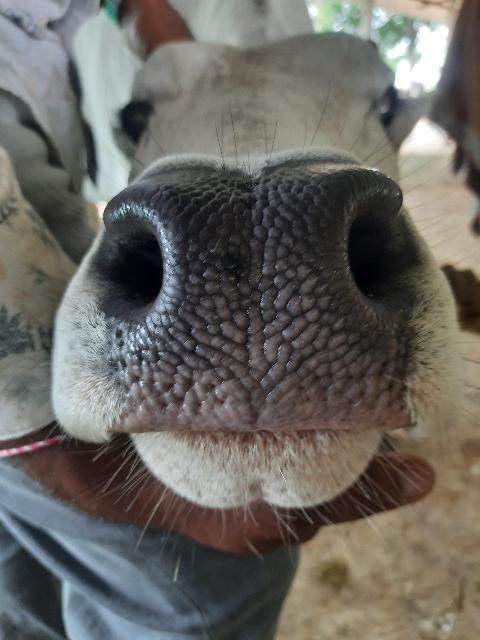Muzzle: (132, 186, 360, 430)
